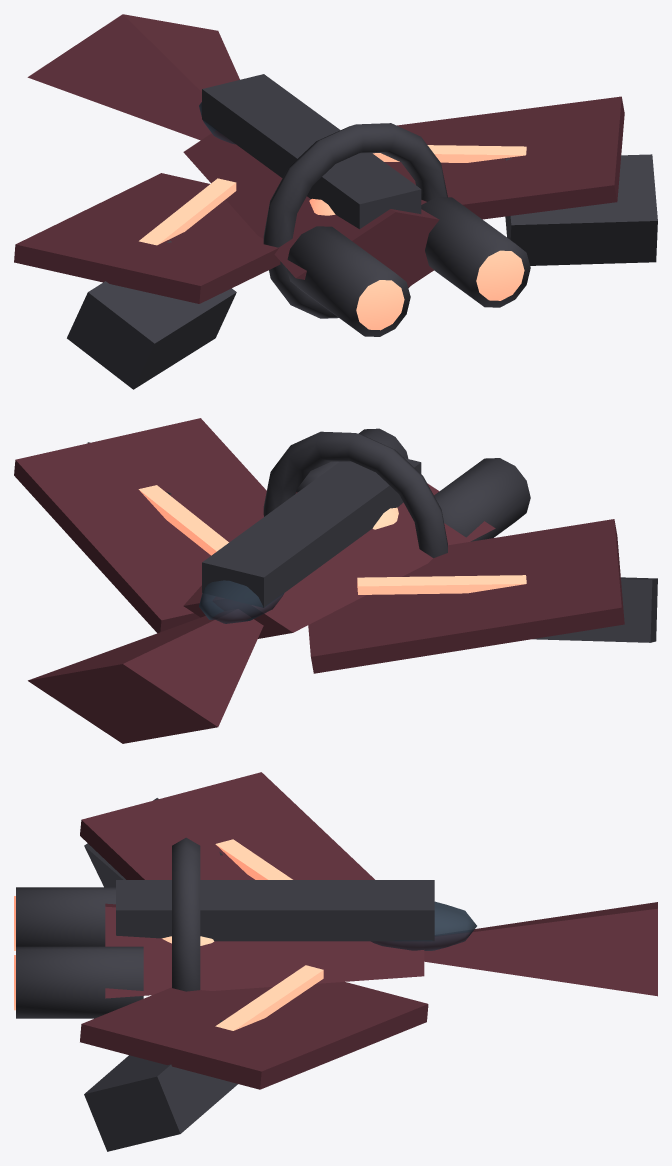
File: enemy-drone.glb
3 renders of one model, top to bottom at view 1: azimuth 30°, elevation 25°; view 2: azimuth 150°, elevation 25°; view 3: azimuth 270°, elevation 25°, orthographic.
Visible parts, largest first — view 1: 左主翼, 右主翼, 机头, 背脊装甲, 左翼刃, 主机身, 右翼刃, 核心环, 左引擎, 右引擎, 左翼能量条, 右尾焰 (+2 smaller); view 2: 右主翼, 左主翼, 机头, 背脊装甲, 主机身, 核心环, 左引擎, 左翼刃, 左翼能量条, 感应舱, 右翼能量条, 右引擎; view 3: 右主翼, 左主翼, 背脊装甲, 机头, 主机身, 右翼刃, 右引擎, 左引擎, 核心环, 右翼能量条, 感应舱, 左翼能量条 (+1 smaller).
Boxes of the visible parts, bbox=[...] form: 左主翼: bbox=[14, 173, 280, 303]; 右主翼: bbox=[384, 96, 624, 219]; 机头: bbox=[27, 14, 239, 140]; 背脊装甲: bbox=[202, 74, 421, 229]; 左翼刃: bbox=[67, 241, 236, 389]; 主机身: bbox=[183, 130, 439, 287]; 右翼刃: bbox=[505, 154, 657, 265]; 核心环: bbox=[263, 123, 447, 318]; 左引擎: bbox=[286, 226, 410, 336]; 右引擎: bbox=[421, 197, 530, 307]; 左翼能量条: bbox=[139, 178, 236, 245]; 右尾焰: bbox=[476, 250, 524, 300]; 右主翼: bbox=[14, 418, 266, 633]; 左主翼: bbox=[308, 519, 624, 673]; 机头: bbox=[28, 609, 263, 743]; 背脊装甲: bbox=[202, 458, 421, 607]; 主机身: bbox=[183, 483, 495, 638]; 核心环: bbox=[263, 431, 447, 558]; 左引擎: bbox=[434, 458, 530, 541]; 左翼刃: bbox=[532, 577, 657, 642]; 左翼能量条: bbox=[357, 575, 526, 594]; 感应舱: bbox=[199, 580, 284, 623]; 右翼能量条: bbox=[138, 485, 228, 555]; 右引擎: bbox=[296, 428, 408, 492]; 右主翼: bbox=[80, 982, 428, 1089]; 左主翼: bbox=[80, 772, 374, 879]; 背脊装甲: bbox=[116, 880, 434, 941]; 机头: bbox=[424, 902, 657, 996]; 主机身: bbox=[105, 903, 424, 998]; 右翼刃: bbox=[84, 1020, 237, 1151]; 右引擎: bbox=[16, 946, 143, 1018]; 左引擎: bbox=[16, 887, 115, 946]; 核心环: bbox=[172, 837, 200, 991]; 右翼能量条: bbox=[215, 965, 323, 1030]; 感应舱: bbox=[371, 901, 476, 950]; 左翼能量条: bbox=[215, 839, 292, 879].
Size of the model in its own units: 3.36 by 1.01 by 3.03.
